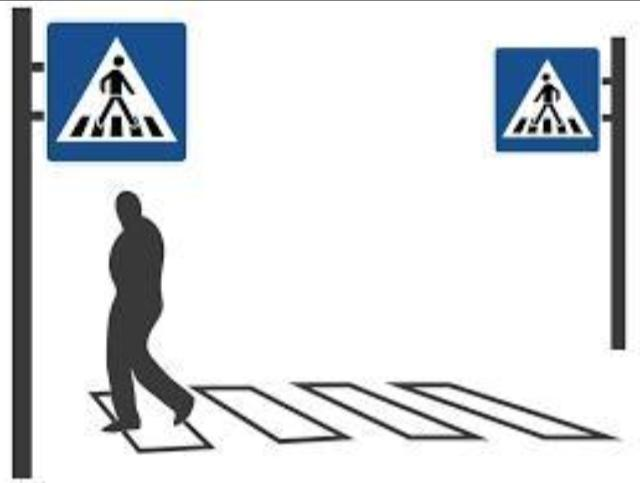crosswalk-sign: (49, 22, 190, 163), (497, 46, 603, 152)
